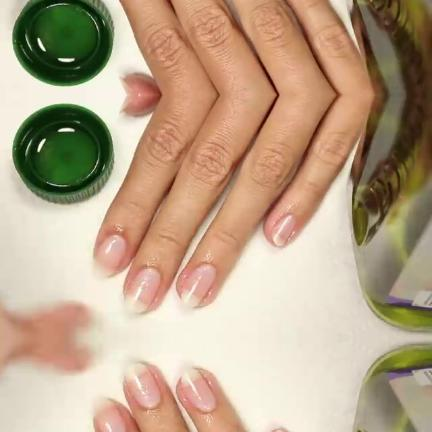Nail: (125, 266, 161, 312), (125, 362, 161, 408), (181, 263, 216, 306), (181, 368, 216, 411), (95, 233, 127, 278), (95, 396, 127, 432), (272, 213, 296, 246), (274, 428, 285, 432)
